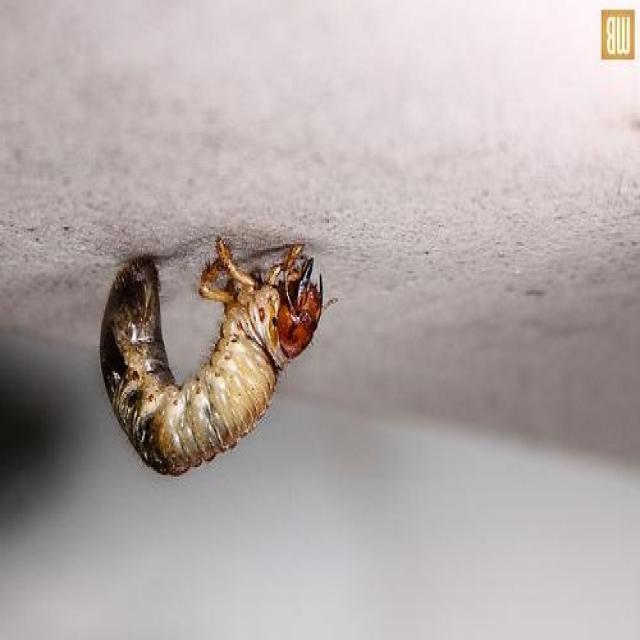grub: (96, 240, 326, 482)
